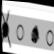correct: (30, 23, 41, 46)
no answer: (15, 21, 26, 43), (45, 27, 54, 48)
not correct: (0, 6, 15, 53)
